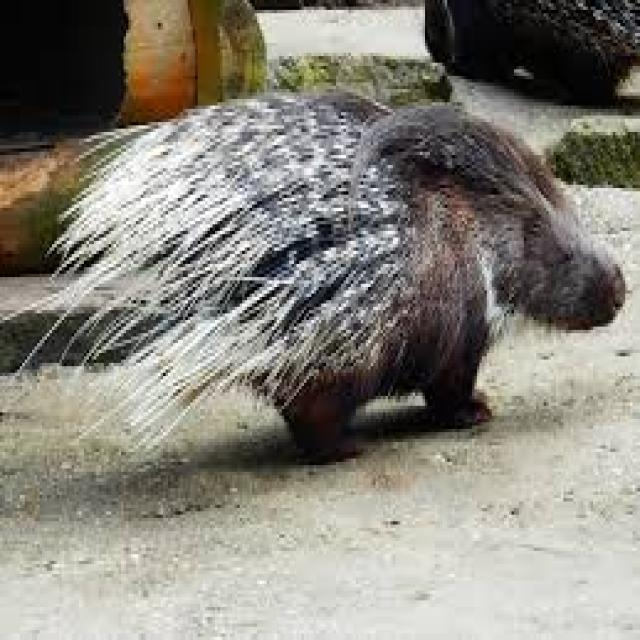Porcupine: (62, 84, 630, 459)
